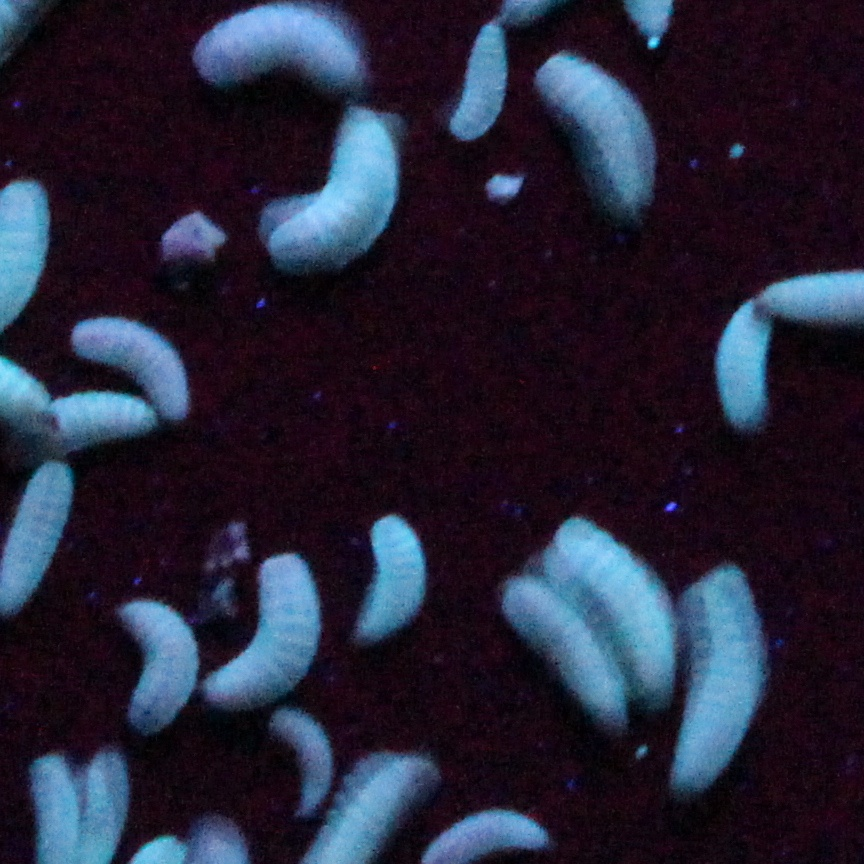larve: (547, 514, 680, 701), (500, 574, 620, 741), (274, 108, 394, 274), (534, 74, 660, 214), (214, 548, 320, 714), (687, 568, 760, 794), (67, 320, 194, 417), (127, 601, 207, 754), (367, 521, 434, 654), (714, 301, 766, 442), (454, 19, 503, 161), (280, 715, 329, 813)
